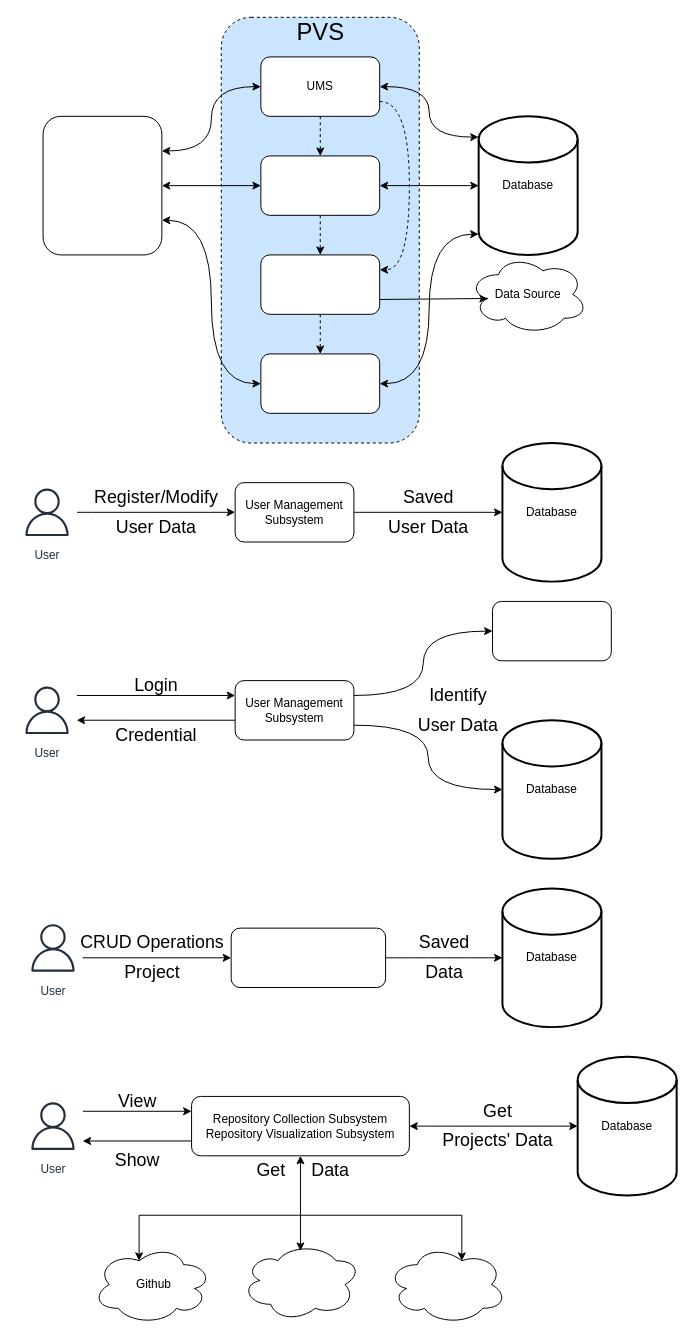
Image size: 695x1341. Some labels were removed from this diagram. Here are the shapes that lost their labels. From the top down, the box of each, then its label:
(42, 115, 162, 255): Frontend
(260, 155, 380, 215): PRMS
(260, 254, 380, 314): RCS
(260, 353, 380, 413): RVS
(492, 600, 611, 661): Third Party
(230, 927, 386, 988): Project Repository Management Subsystem
(240, 1244, 360, 1324): SonarQube
(387, 1244, 506, 1324): Trello
